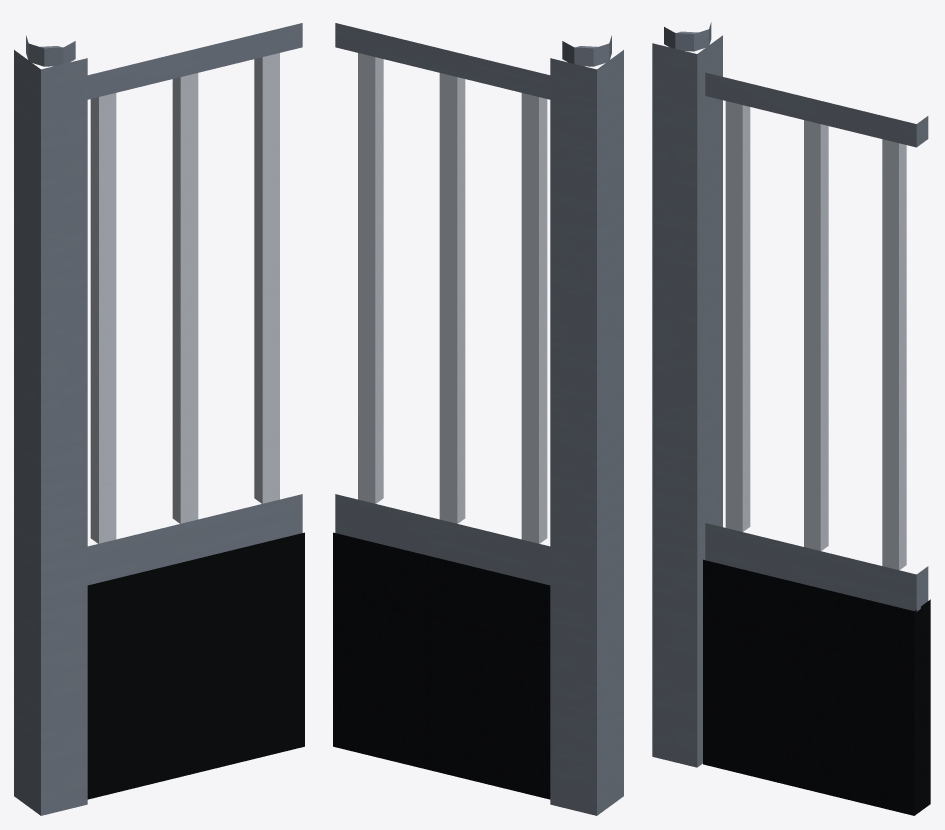
Rendered from tt_play_fence_kick_046.glb.
3 renders of one model, left to right at view 1: azimuth 30°, elevation 25°; view 2: azimuth 150°, elevation 25°; view 3: azimuth 330°, elevation 25°, orthographic. The views are drawn at different scales.
Parts seen in each view (by area): view 1: Post, Kick, Picket, RailLow, RailTop, Cap; view 2: Post, Kick, Picket, RailLow, RailTop, Cap; view 3: Kick, Post, Picket, RailLow, RailTop, Cap.
Boxes of the visible parts, <box> form: Post: <box>14,50,87,815</box>; Kick: <box>87,532,304,799</box>; Picket: <box>90,53,279,543</box>; RailLow: <box>87,494,302,585</box>; RailTop: <box>87,23,302,99</box>; Cap: <box>26,35,75,66</box>; Post: <box>550,50,623,815</box>; Kick: <box>333,532,550,799</box>; Picket: <box>358,53,547,543</box>; RailLow: <box>335,494,550,585</box>; RailTop: <box>335,23,550,99</box>; Cap: <box>562,35,611,66</box>; Kick: <box>703,559,930,815</box>; Post: <box>652,35,722,767</box>; Picket: <box>725,101,906,570</box>; RailLow: <box>705,523,928,611</box>; RailTop: <box>705,72,928,147</box>; Cap: <box>664,22,711,51</box>.
Size of what is drawn, in the model's own units: 0.46 by 1.25 by 0.08.
Materials: 3 (3 with a texture image).
